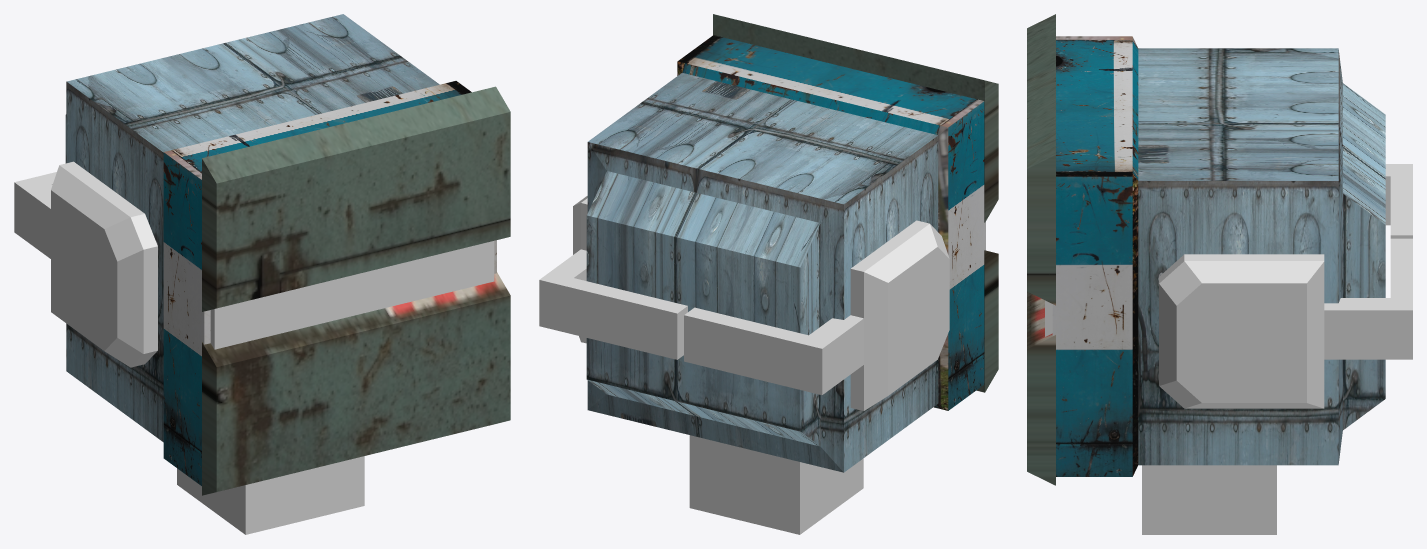
The model's file is Robot 3 head.fbx.
3 views of the same model, side by side, from view 1: azimuth 30°, elevation 25°; view 2: azimuth 150°, elevation 25°; view 3: azimuth 270°, elevation 25° (orthographic). The views are drawn at different scales.
Visible parts, largest first — view 1: Cube.005, Cube.028, Cube.027, Cube.029, Cube.014; view 2: Cube.005, Cube.029, Cube.014, Cube.028, Cube.027; view 3: Cube.005, Cube.029, Cube.014, Cube.028, Cube.027.
Part boxes in pixels (<box>): Cube.005: <box>65,14,496,485</box>; Cube.028: <box>202,86,510,311</box>; Cube.027: <box>202,272,510,495</box>; Cube.029: <box>14,161,157,367</box>; Cube.014: <box>177,456,364,534</box>; Cube.005: <box>586,35,985,472</box>; Cube.029: <box>539,196,949,410</box>; Cube.014: <box>689,435,863,534</box>; Cube.028: <box>713,14,998,222</box>; Cube.027: <box>976,250,998,392</box>; Cube.005: <box>1045,36,1385,476</box>; Cube.029: <box>1159,164,1412,408</box>; Cube.014: <box>1142,465,1276,534</box>; Cube.028: <box>1027,14,1055,305</box>; Cube.027: <box>1027,291,1055,485</box>.
Bounding box in the file's own units: 177 × 214 × 177.
